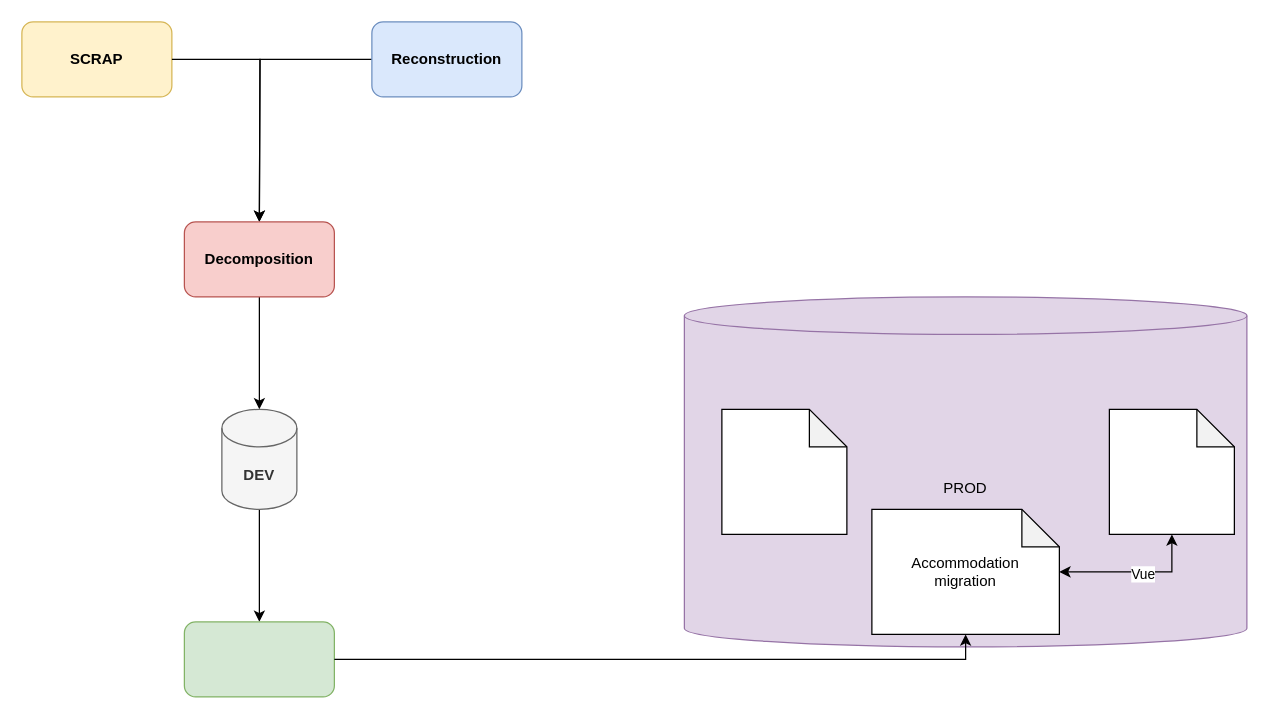
Some shapes in this 1269 by 719 pixel diagram are drawn without their labels. The box of each missing label's shape, as (x1, y1, x2, y2) in pixels:
Accommodation: (721, 408, 847, 534)
Accommodation Referenced: (1108, 408, 1234, 534)
ETL: (183, 621, 334, 697)
